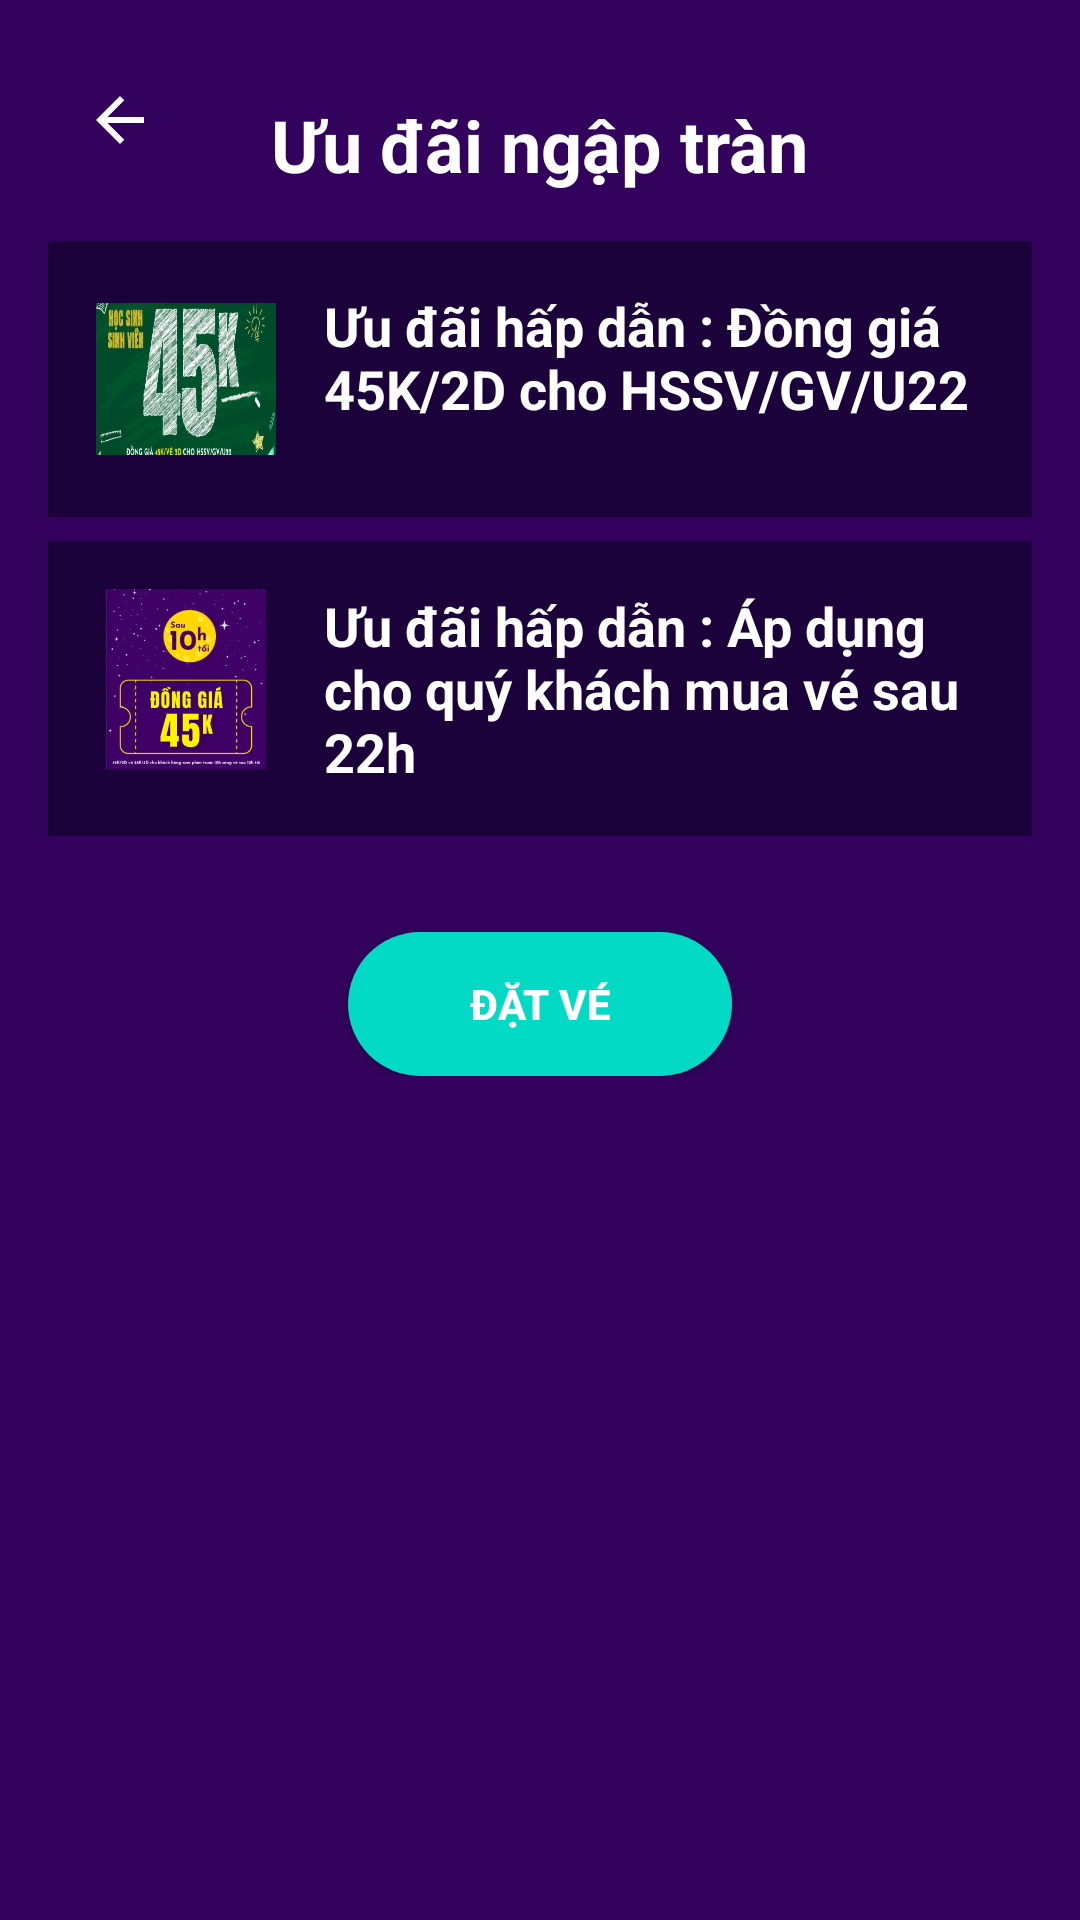

Icons on this 1080px×1920px Android screen, each with the point to tap as (x=x, y=y):
Quay lại: (x=120, y=120)
